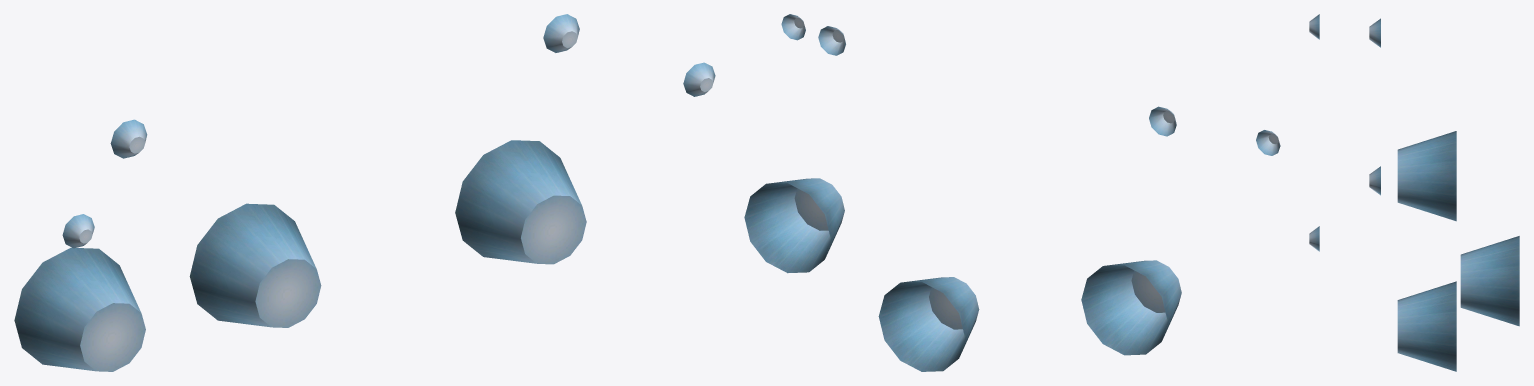
The model's file is shuttle_rebel_engine_on_l0.fbx.
3 renders of one model, left to right at view 1: azimuth 30°, elevation 25°; view 2: azimuth 150°, elevation 25°; view 3: azimuth 270°, elevation 25°, orthographic. The views are drawn at different scales.
Parts seen in each view (by area): view 1: mesh_node; view 2: mesh_node; view 3: mesh_node.
Part boxes in pixels (left/top/right/bottom): mesh_node: left=14, top=14, right=715, bottom=371; mesh_node: left=744, top=14, right=1280, bottom=371; mesh_node: left=1309, top=14, right=1519, bottom=371.
Size of the model in its own units: 14.07 by 6.71 by 5.6.
Materials: 1 (1 with a texture image).
